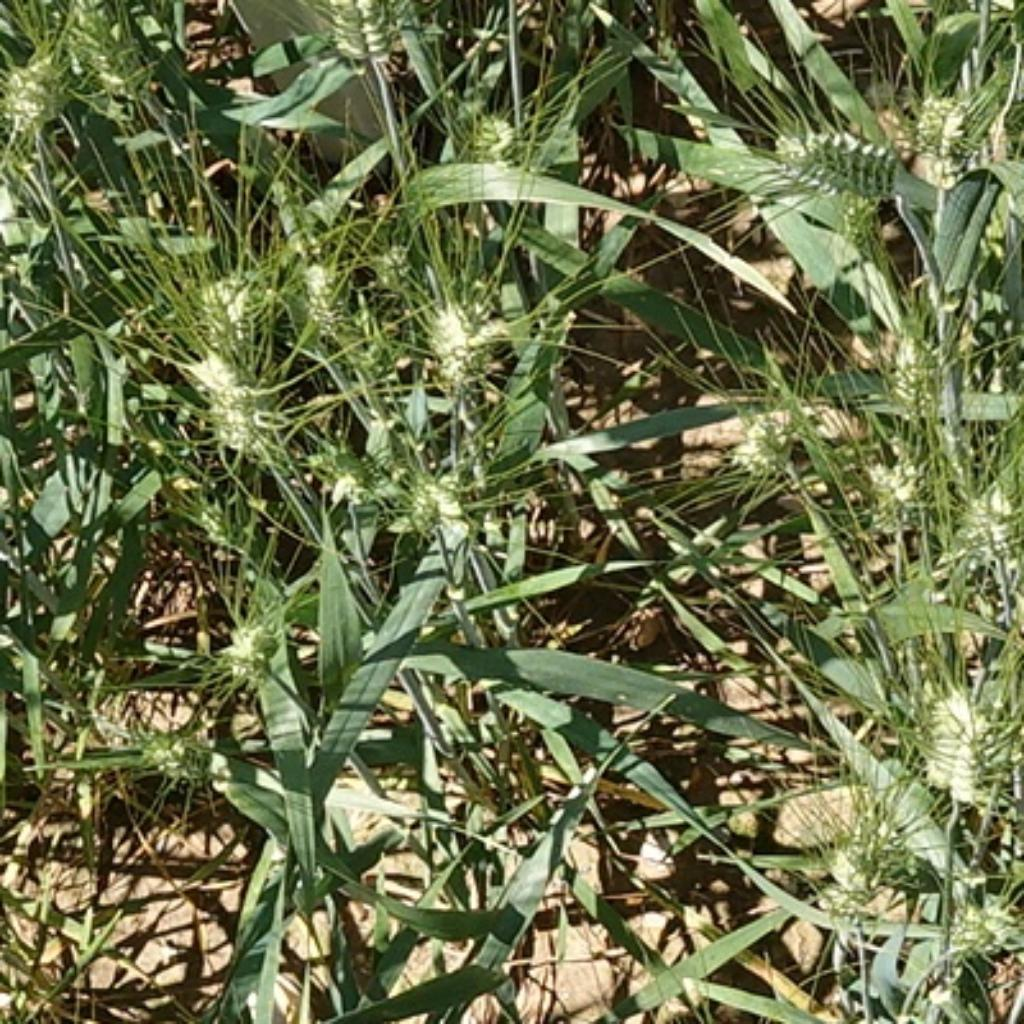0-0: (898, 670, 1024, 811), (711, 373, 844, 476), (174, 253, 281, 353), (59, 6, 159, 111), (181, 348, 276, 458), (412, 273, 504, 386), (761, 128, 908, 196), (944, 460, 1024, 568), (440, 92, 545, 168), (215, 586, 296, 683), (849, 435, 934, 527), (2, 43, 74, 143), (906, 76, 983, 166), (304, 424, 389, 504), (811, 830, 888, 917), (394, 453, 473, 537), (942, 883, 1024, 962), (889, 328, 946, 420), (125, 724, 203, 787), (320, 0, 394, 60), (371, 227, 430, 294), (303, 261, 343, 338), (835, 174, 885, 229), (202, 505, 244, 553), (353, 347, 394, 382)
